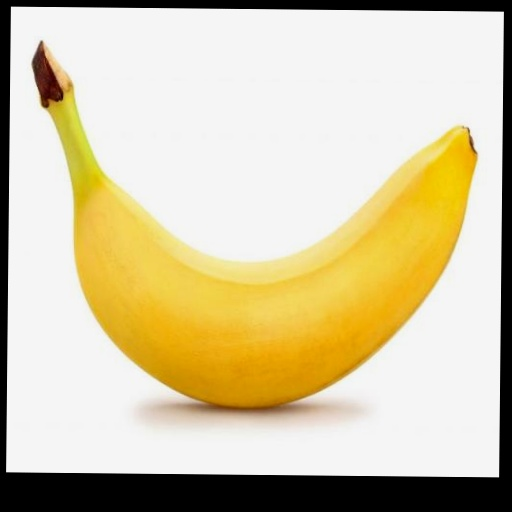fruit: (33, 43, 476, 407)
